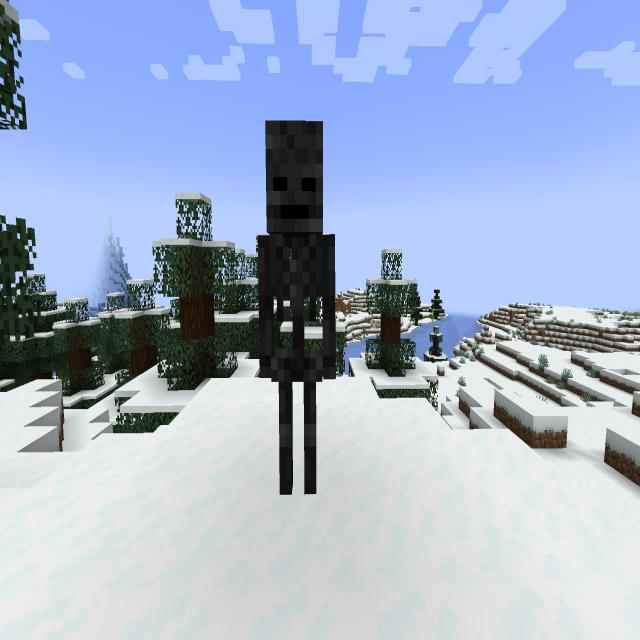Wither Skeleton: (252, 111, 346, 502)
